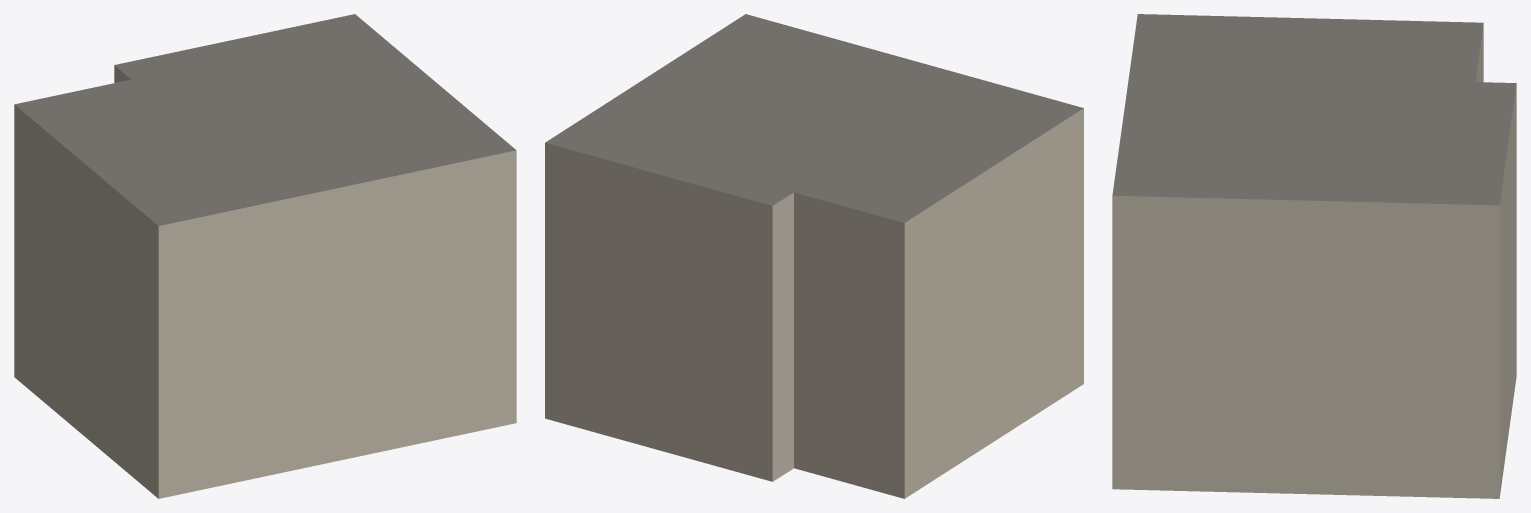
3 views of the same model, side by side, from view 1: azimuth 30°, elevation 25°; view 2: azimuth 150°, elevation 25°; view 3: azimuth 270°, elevation 25° (orthographic). The views are drawn at different scales.
Parts seen in each view (by area): view 1: HP-w734461623; view 2: HP-w734461623; view 3: HP-w734461623.
Part boxes in pixels (x1,y1,x2,y2): HP-w734461623: (14,14,516,498); HP-w734461623: (545,14,1083,498); HP-w734461623: (1112,14,1516,498).
Size of the model in its own units: 25.17 by 18 by 22.46.
